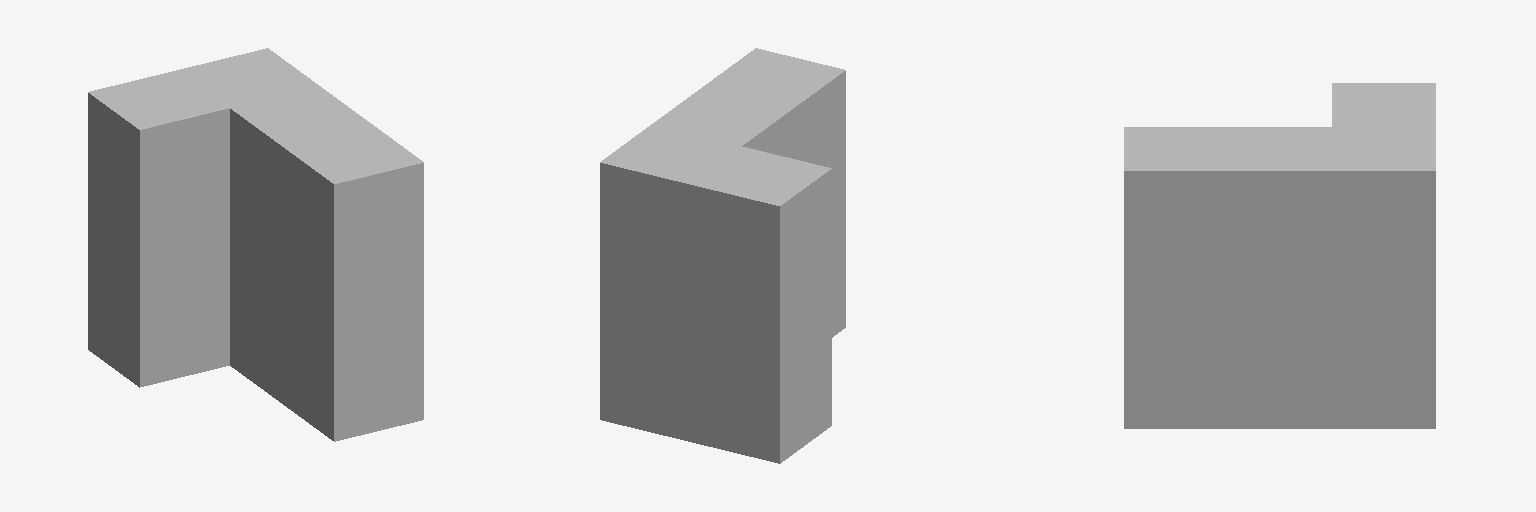
Rendered from Lblock.obj.
The picture shows the model from 3 angles: view 1: azimuth 30°, elevation 25°; view 2: azimuth 150°, elevation 25°; view 3: azimuth 270°, elevation 25°; orthographic projection.
Parts seen in each view (by area): view 1: Cube.001; view 2: Cube.001; view 3: Cube.001.
Boxes of the visible parts, box(x1,y1,x2,y2) form: Cube.001: box(88, 48, 423, 441); Cube.001: box(600, 48, 845, 463); Cube.001: box(1124, 83, 1435, 428).
Size of the model in its own units: 0.3212 by 0.4378 by 0.482.